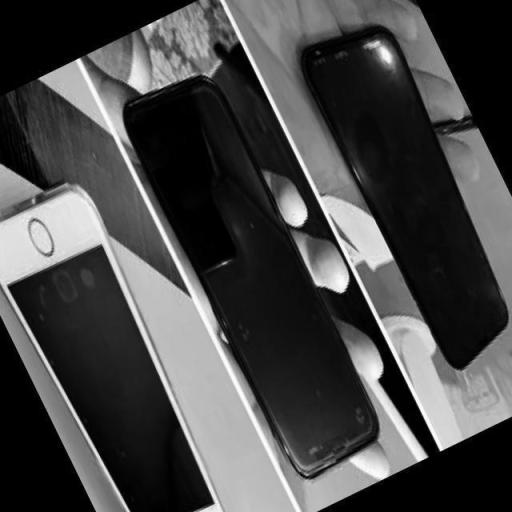phone: (115, 68, 379, 487), (300, 19, 511, 376), (0, 187, 225, 512)
